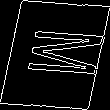M_E: (8, 29, 102, 81)
